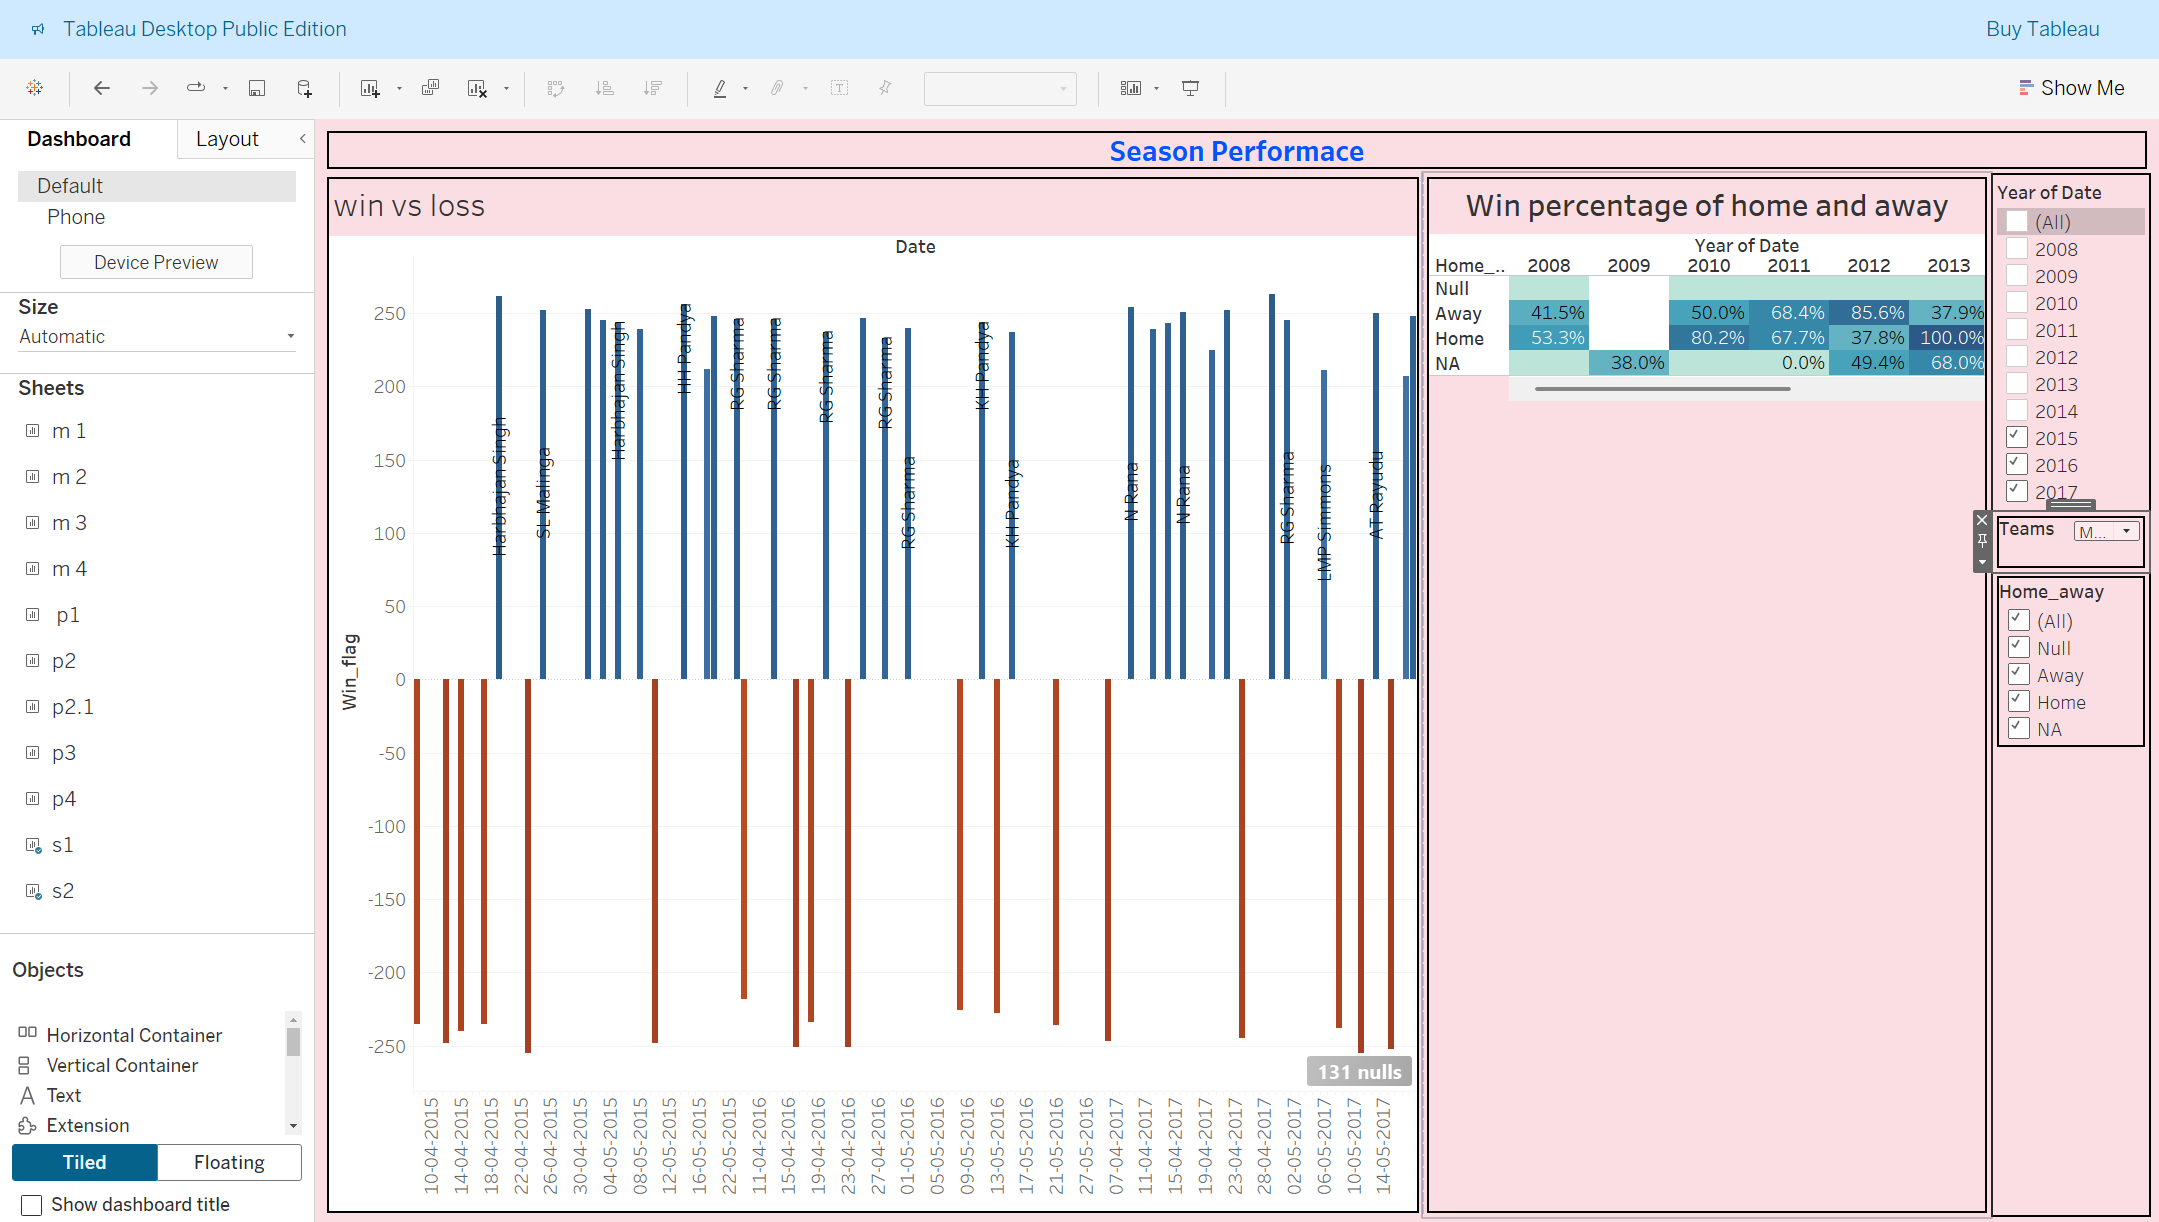

This screenshot's page, from the dashboard's own definition file:
{"tool":"tableau","page":{"name":"season","canvas":[1000,1000],"units":"permille","ordinal":2},"visuals":[{"type":"title","box":[4.3,7.2,991.3,41.6]},{"type":"worksheet","title":"s1","mark":"Bar","rows":["Calculation_99642168552820745"],"cols":["date"],"box":[4.3,48.8,596.8,944]},{"type":"worksheet","title":"s2","mark":"Square","rows":["Calculation_99642168553938955"],"cols":["date"],"box":[601.1,48.8,307.8,944]},{"type":"filter","title":"s1","param":"[federated.1xgo8gq0ciczm31bon2gl15yu2lw].[yr:date:ok]","box":[910,50.6,84.6,304.7]},{"type":"parameter","param":"[Parameters].[Parameter 1]","box":[910,355.3,84.6,54.2]},{"type":"filter","title":"s2","param":"[federated.1xgo8gq0ciczm31bon2gl15yu2lw].[none:Calculation_99642168553938955:nk]","box":[910,409.6,84.6,161.8]}]}

Visuals, with their boxes on the dashboard's canvas, which has no fixed pixel size, in thousandths of its width and height (x1, y1, x2, y2). These are canvas units, not pixel positions in the 2159x1222 screenshot, which may show the page scaled, cropped or inside an application window:
title: BBox(4, 7, 996, 49)
"s1" worksheet (Bar marks): BBox(4, 49, 601, 993)
"s2" worksheet (Square marks): BBox(601, 49, 909, 993)
"s1" filter: BBox(910, 51, 995, 355)
parameter: BBox(910, 355, 995, 410)
"s2" filter: BBox(910, 410, 995, 571)
